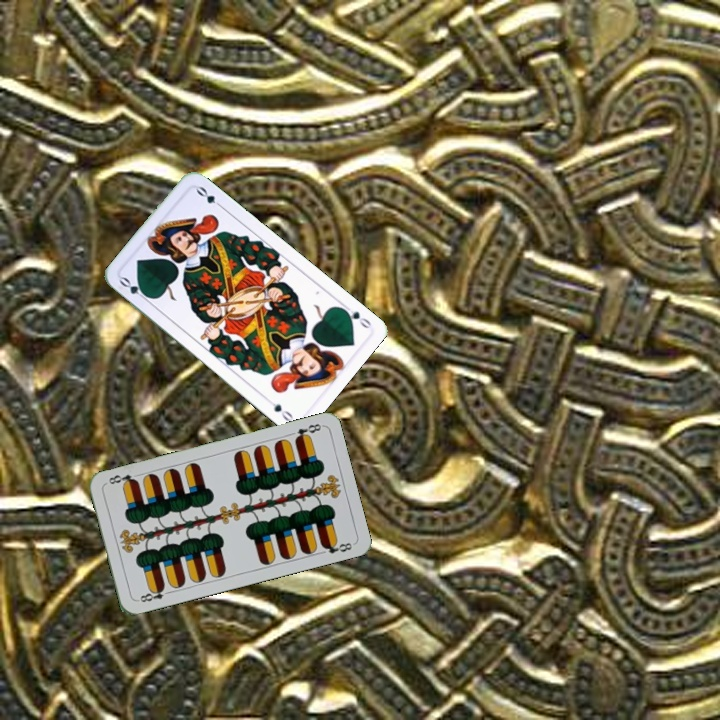E8: (133, 583, 173, 605), (291, 420, 324, 443)
GO: (115, 273, 153, 304), (337, 300, 374, 331)
